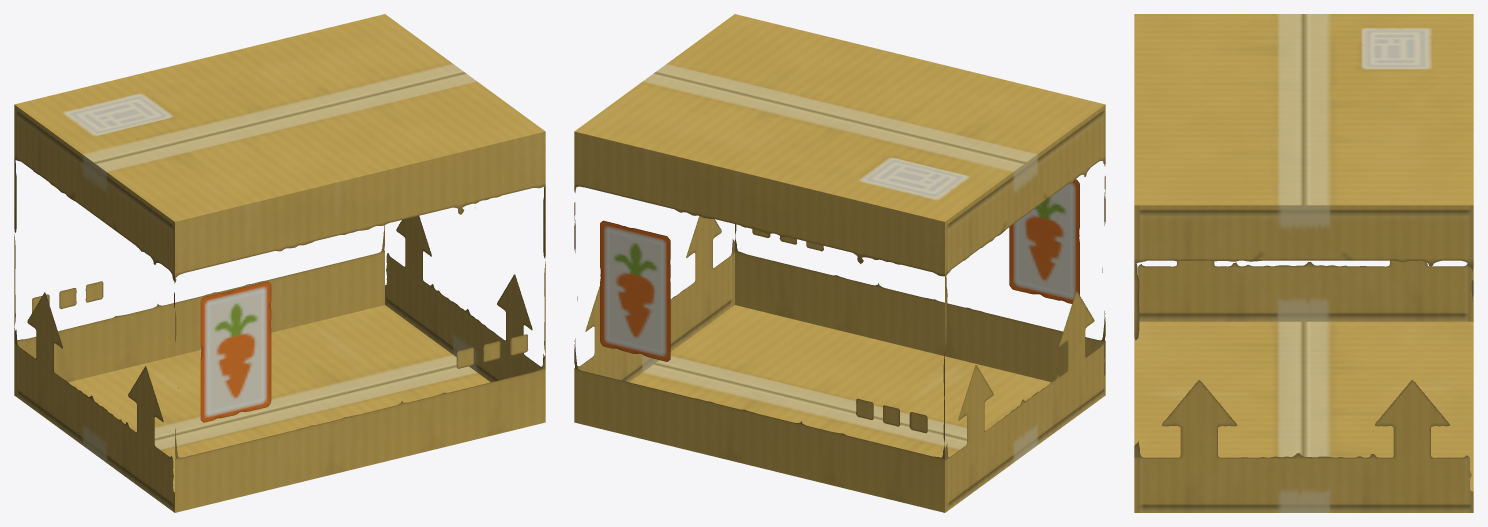
The model's file is p_mesh_carrotbox.fbx.
3 renders of one model, left to right at view 1: azimuth 30°, elevation 25°; view 2: azimuth 150°, elevation 25°; view 3: azimuth 270°, elevation 25°, orthographic. The views are drawn at different scales.
Parts seen in each view (by area): view 1: obj_containers_vegboxcarrot; view 2: obj_containers_vegboxcarrot; view 3: obj_containers_vegboxcarrot.
Part boxes in pixels (bbox=[...]): obj_containers_vegboxcarrot: bbox=[14, 14, 545, 512]; obj_containers_vegboxcarrot: bbox=[574, 14, 1105, 512]; obj_containers_vegboxcarrot: bbox=[1134, 14, 1473, 512].
Size of the model in its own units: 4 by 3 by 3.
